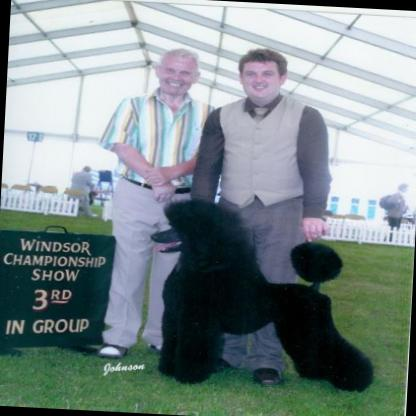standard_poodle: (138, 192, 386, 396)
